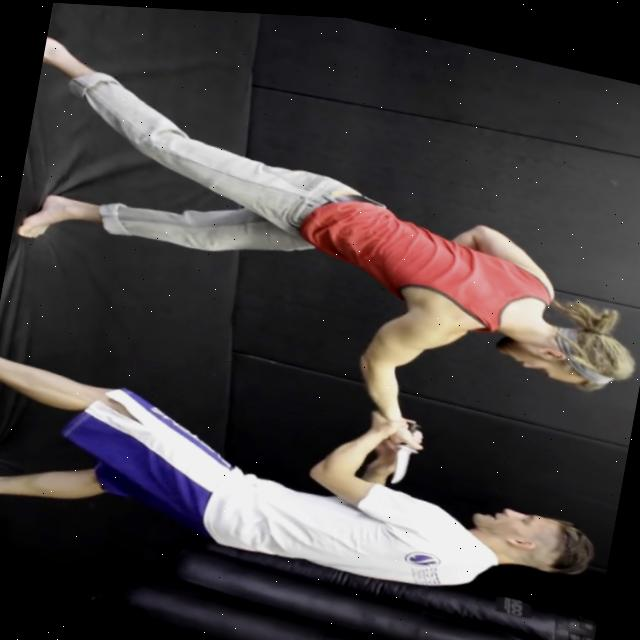knife: (386, 440, 422, 490)
